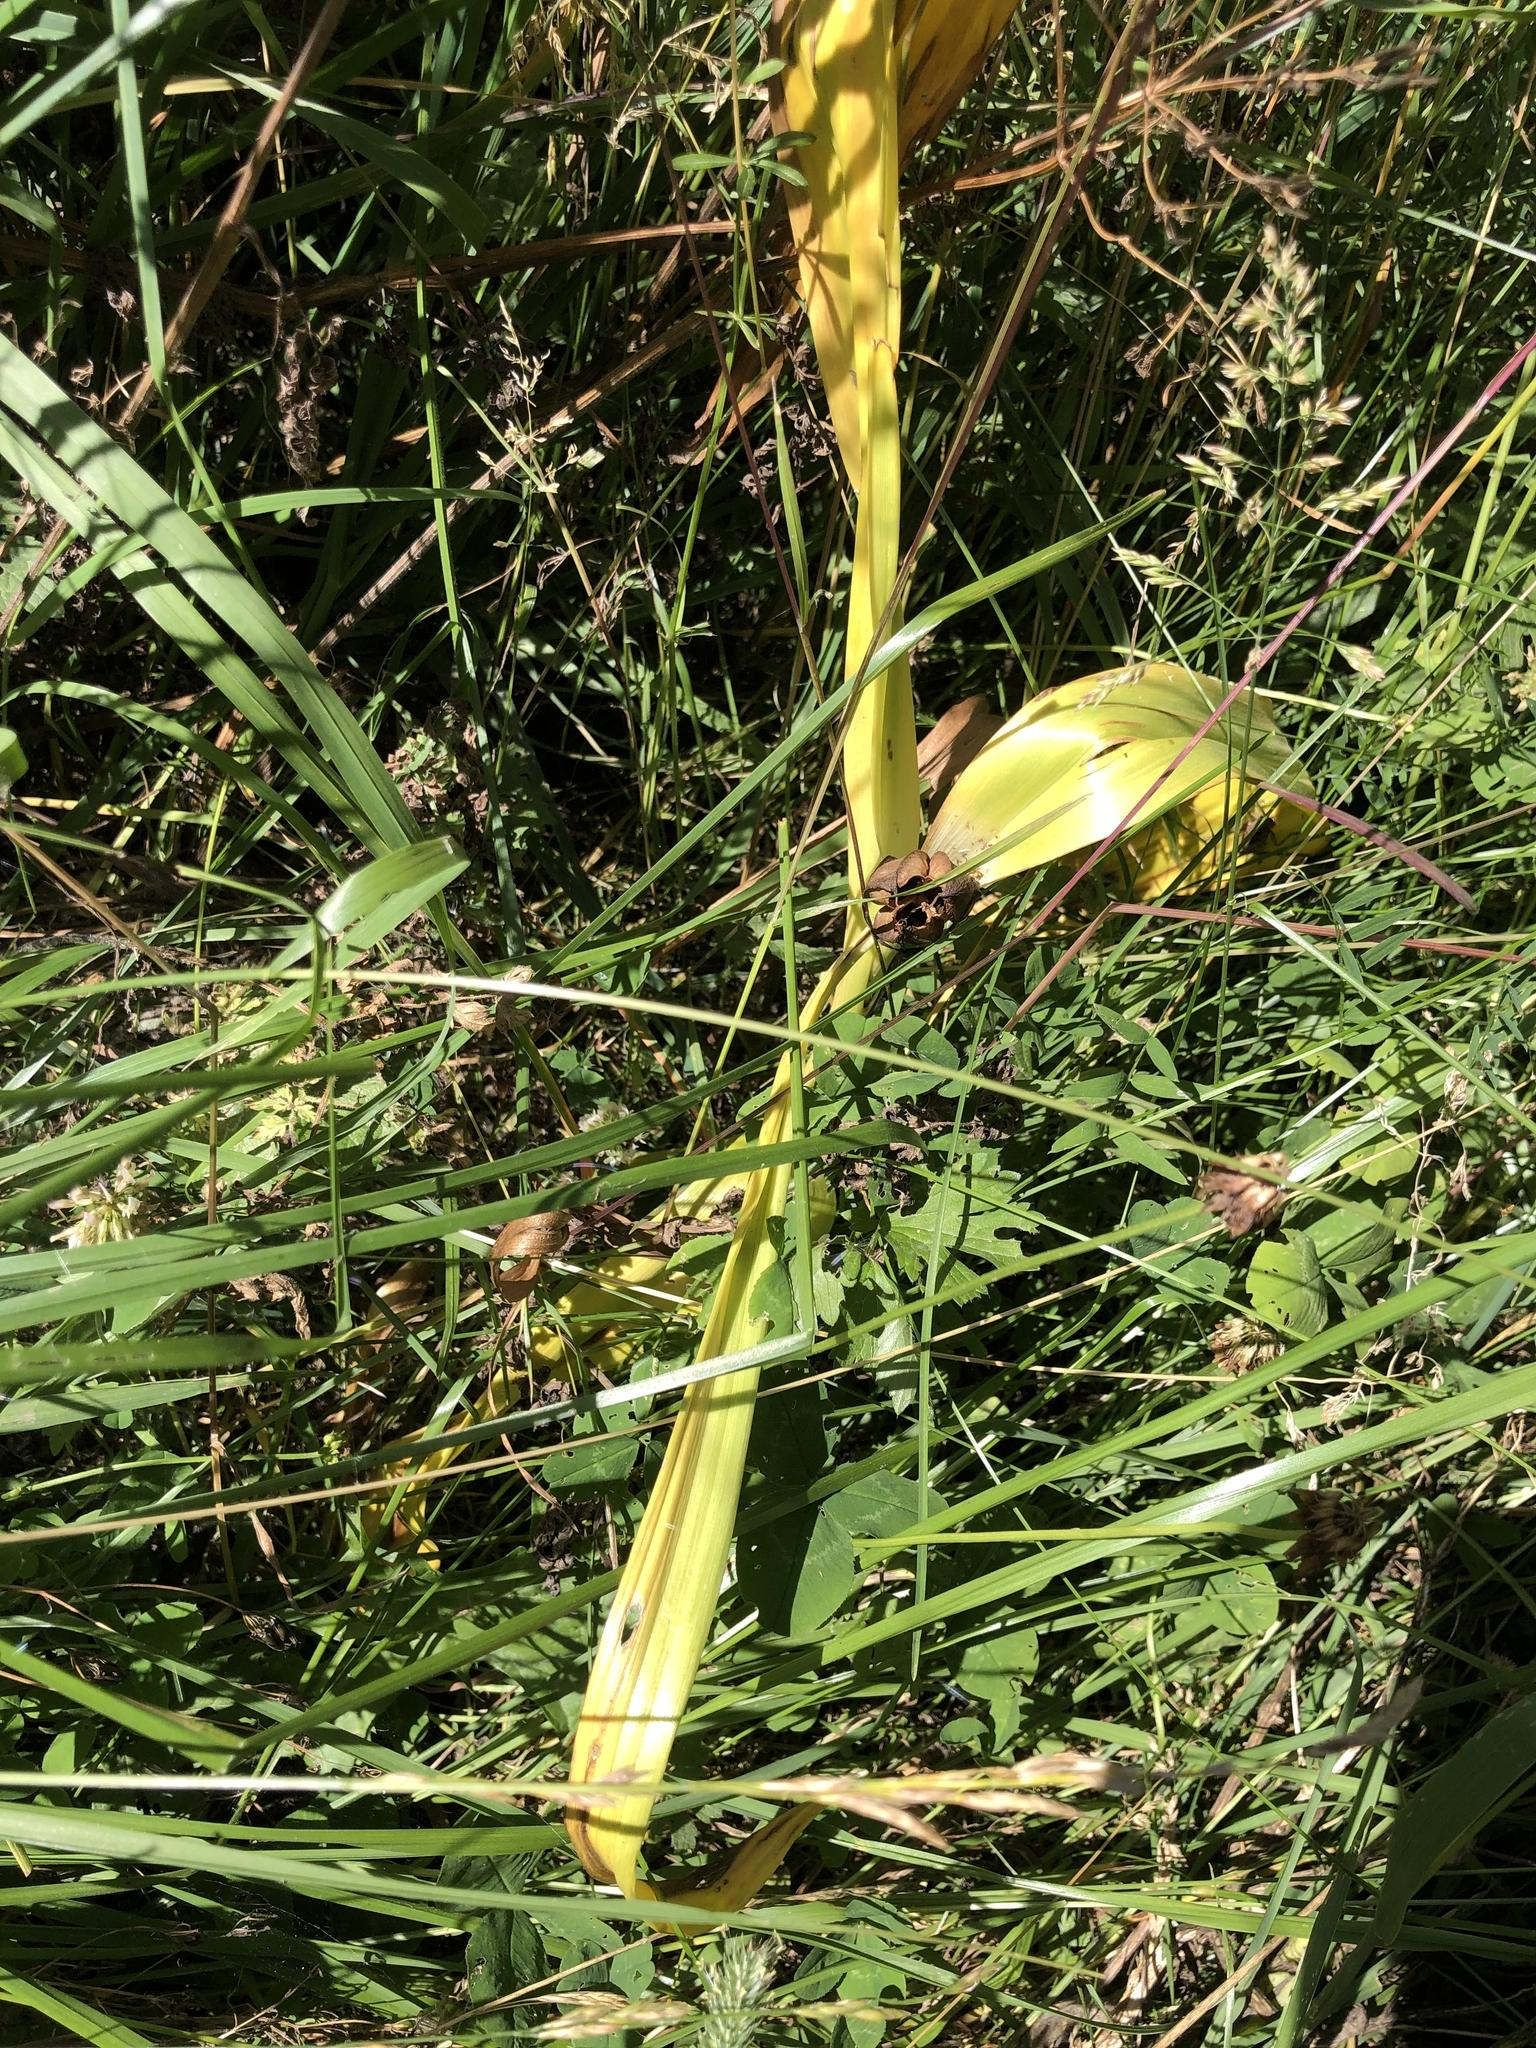Colchicum autumnale L: (703, 16, 1283, 1188)
